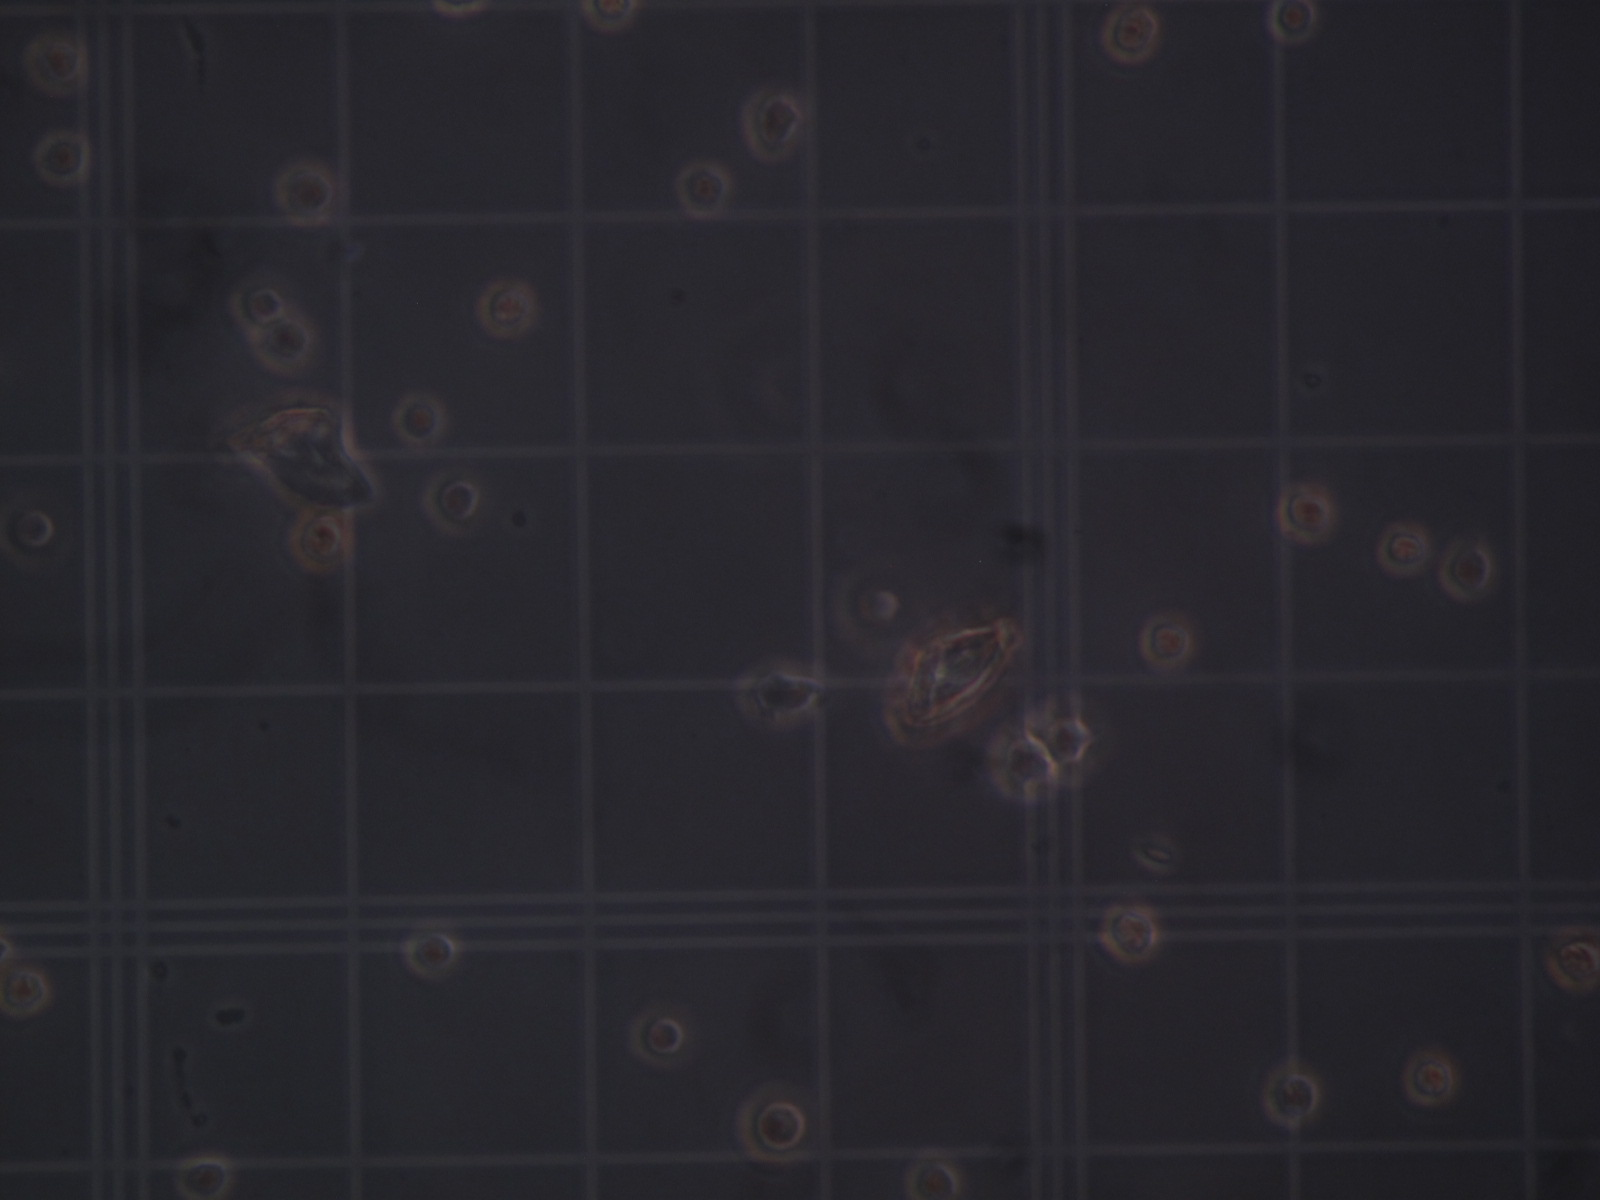hemo: (734, 1084, 808, 1165), (734, 661, 820, 725), (985, 730, 1060, 802), (831, 566, 900, 644), (740, 91, 801, 163), (289, 509, 353, 574), (272, 163, 335, 227), (421, 471, 481, 537), (1, 494, 54, 568), (24, 35, 86, 96), (1099, 903, 1159, 964), (476, 279, 537, 338), (1262, 1065, 1320, 1127), (1101, 4, 1159, 64), (627, 1008, 685, 1068), (253, 318, 312, 374), (1276, 487, 1334, 543), (1440, 541, 1493, 601), (675, 163, 731, 219), (33, 131, 91, 185), (228, 276, 287, 329), (1545, 935, 1600, 991), (402, 926, 459, 979), (1403, 1050, 1456, 1105), (1377, 523, 1430, 576), (392, 392, 446, 444), (1139, 615, 1193, 667), (1, 966, 50, 1018), (1044, 715, 1092, 769), (176, 1155, 233, 1200), (905, 1156, 963, 1200), (1267, 1, 1317, 43), (581, 1, 637, 32), (1, 923, 13, 979)
